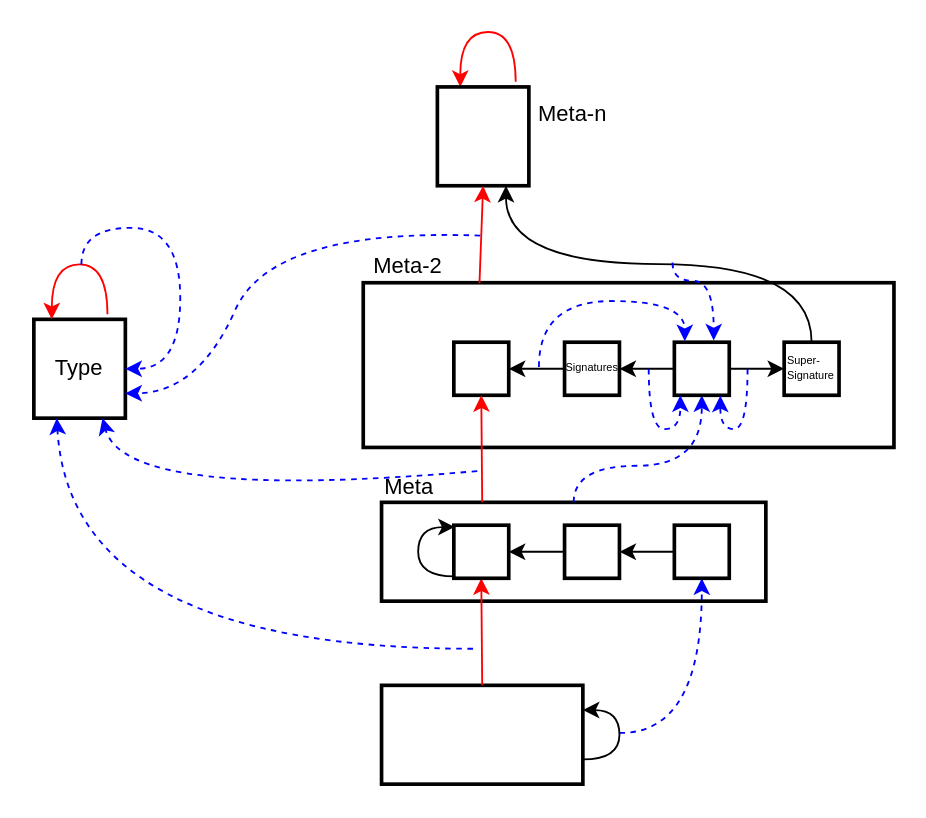
This 926x818 diagram has some shape labels left out. Each missing label, with the box of its shape:
Relations: (672, 339, 730, 396)
Types: (451, 339, 510, 396)
